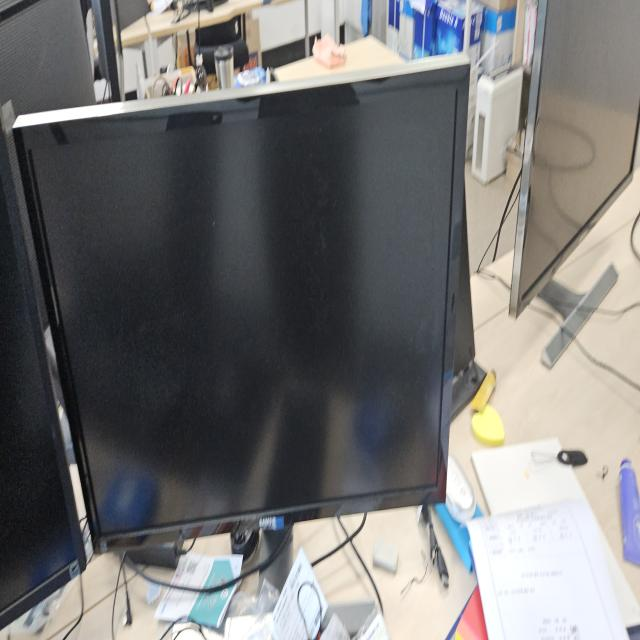Monitor: (11, 50, 477, 568)
